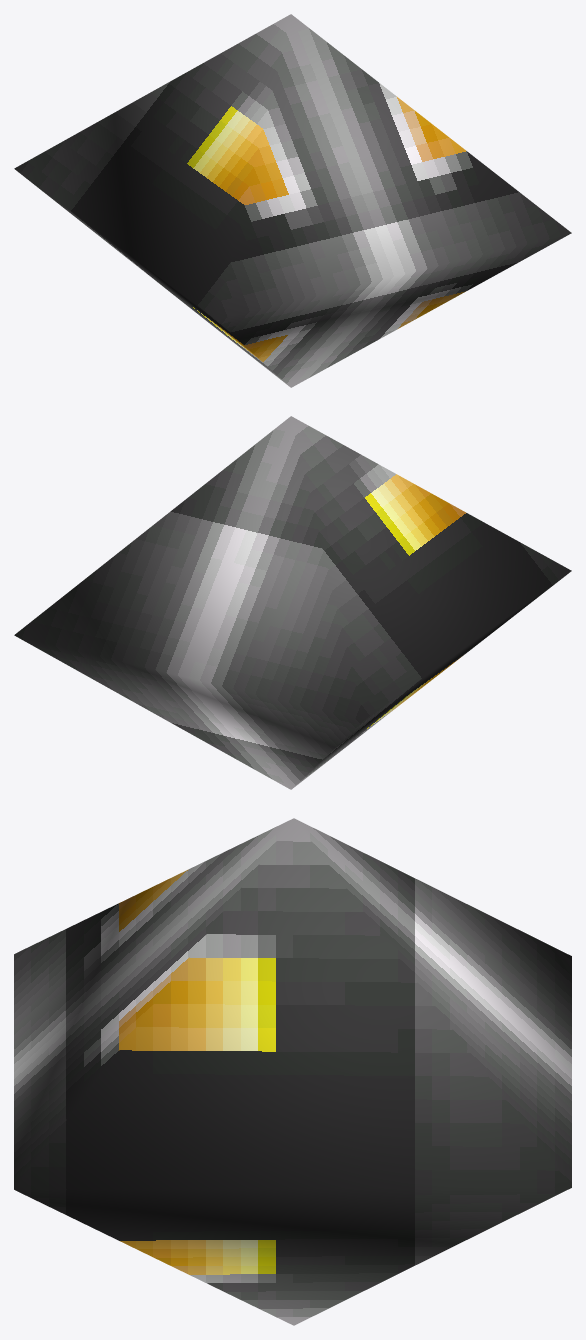
3 renders of one model, top to bottom at view 1: azimuth 30°, elevation 25°; view 2: azimuth 150°, elevation 25°; view 3: azimuth 270°, elevation 25°, orthographic. The views are drawn at different scales.
Visible parts, largest first — view 1: f862bd9c; view 2: f862bd9c; view 3: f862bd9c.
Part boxes in pixels (x1,y1,x2,y2): f862bd9c: [14, 14, 571, 387]; f862bd9c: [14, 416, 571, 789]; f862bd9c: [14, 818, 571, 1325].
Size of the model in its own units: 3.72 by 3.74 by 3.72.
Materials: 1 (1 with a texture image).
